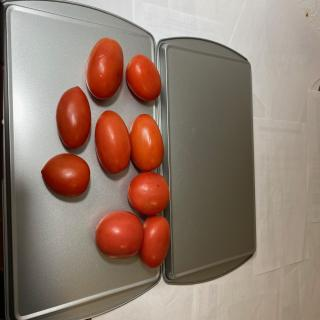Chilli: (41, 36, 171, 269)
Tomato: (85, 37, 124, 100), (95, 210, 143, 259), (94, 110, 130, 174), (56, 86, 91, 148), (41, 153, 90, 197), (129, 114, 164, 172), (128, 172, 170, 215), (125, 54, 162, 102), (140, 215, 170, 269)
